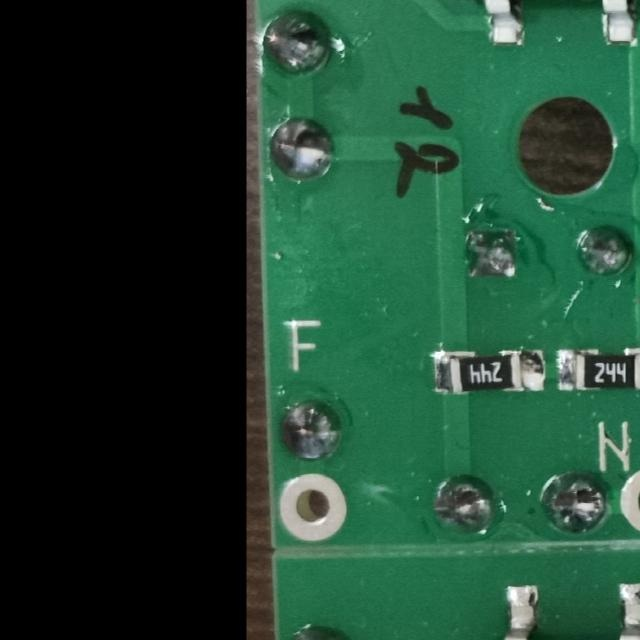chip-resistor: (430, 347, 546, 397), (556, 344, 640, 393)
